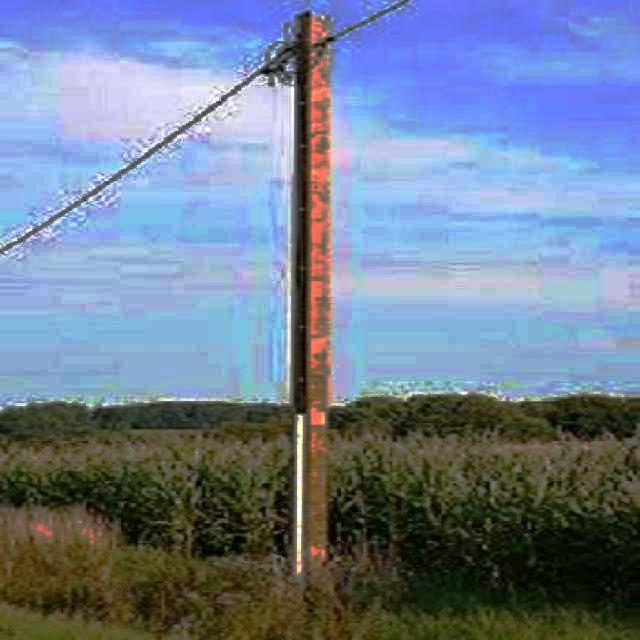poles: (292, 11, 328, 581)
wires: (0, 42, 285, 251), (332, 1, 420, 37)
